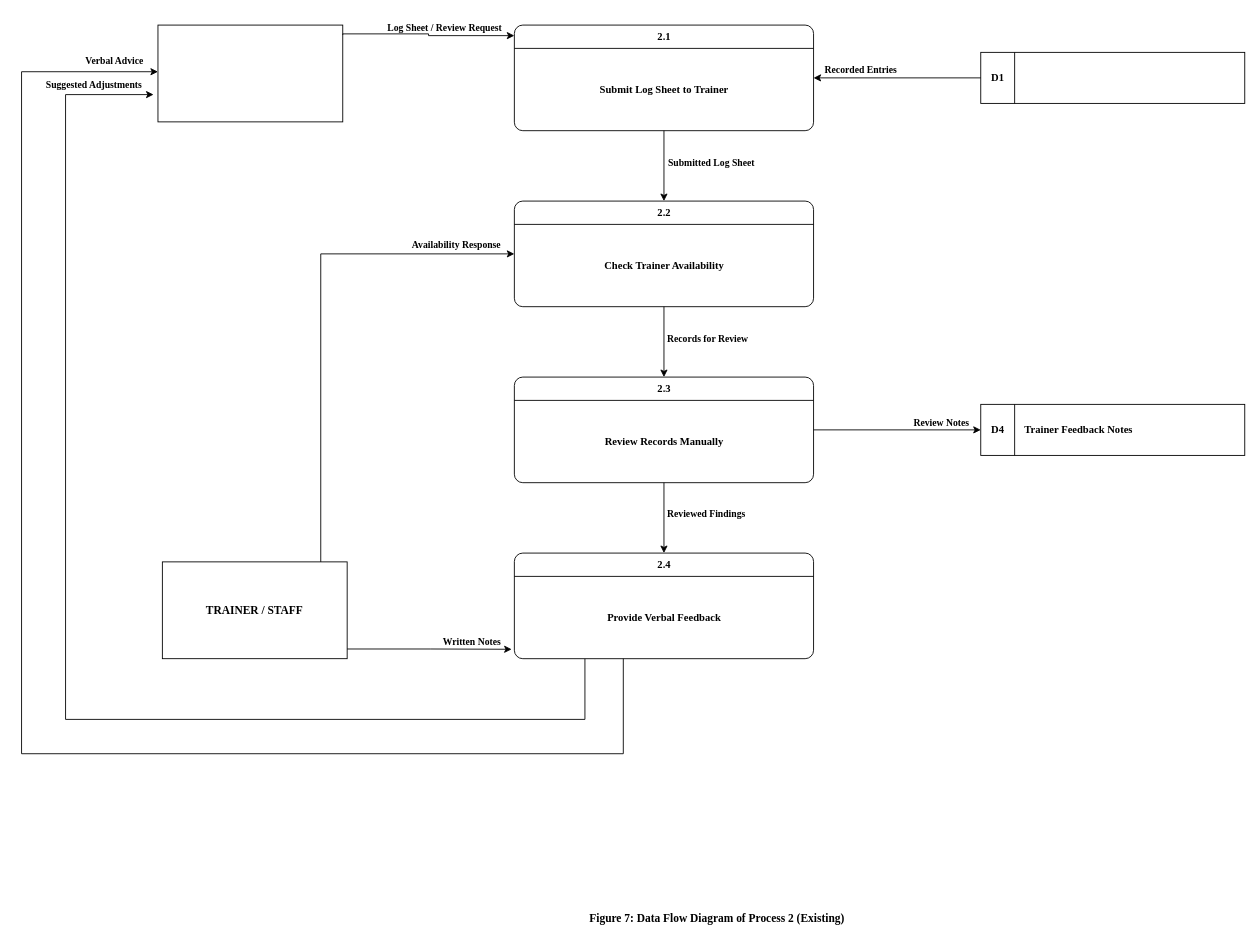
Some shapes in this 1260 by 946 pixel diagram are drawn without their labels. Here are the shapes that lost their labels. From the top down, the box of each, then its label:
(157, 24, 343, 122): MEMBER
(980, 51, 1245, 103): Workout Log Sheet
